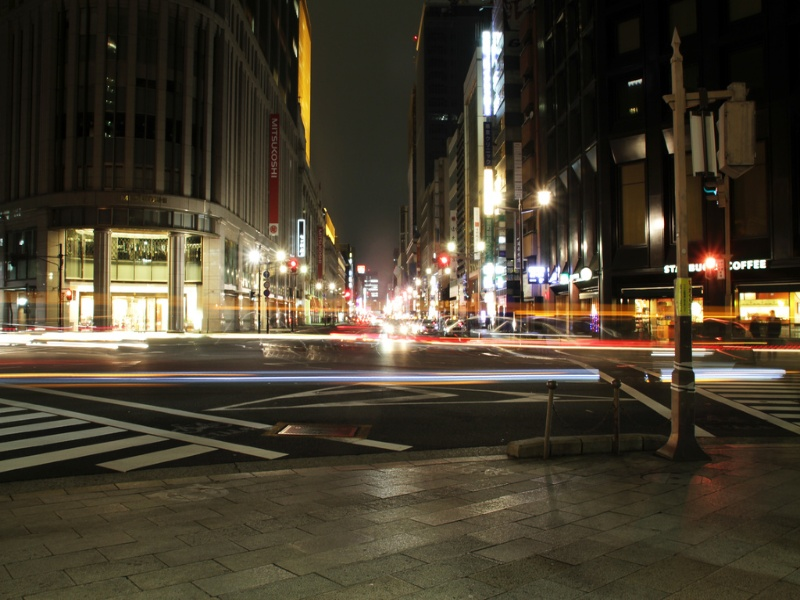red_light: (697, 236, 739, 283)
